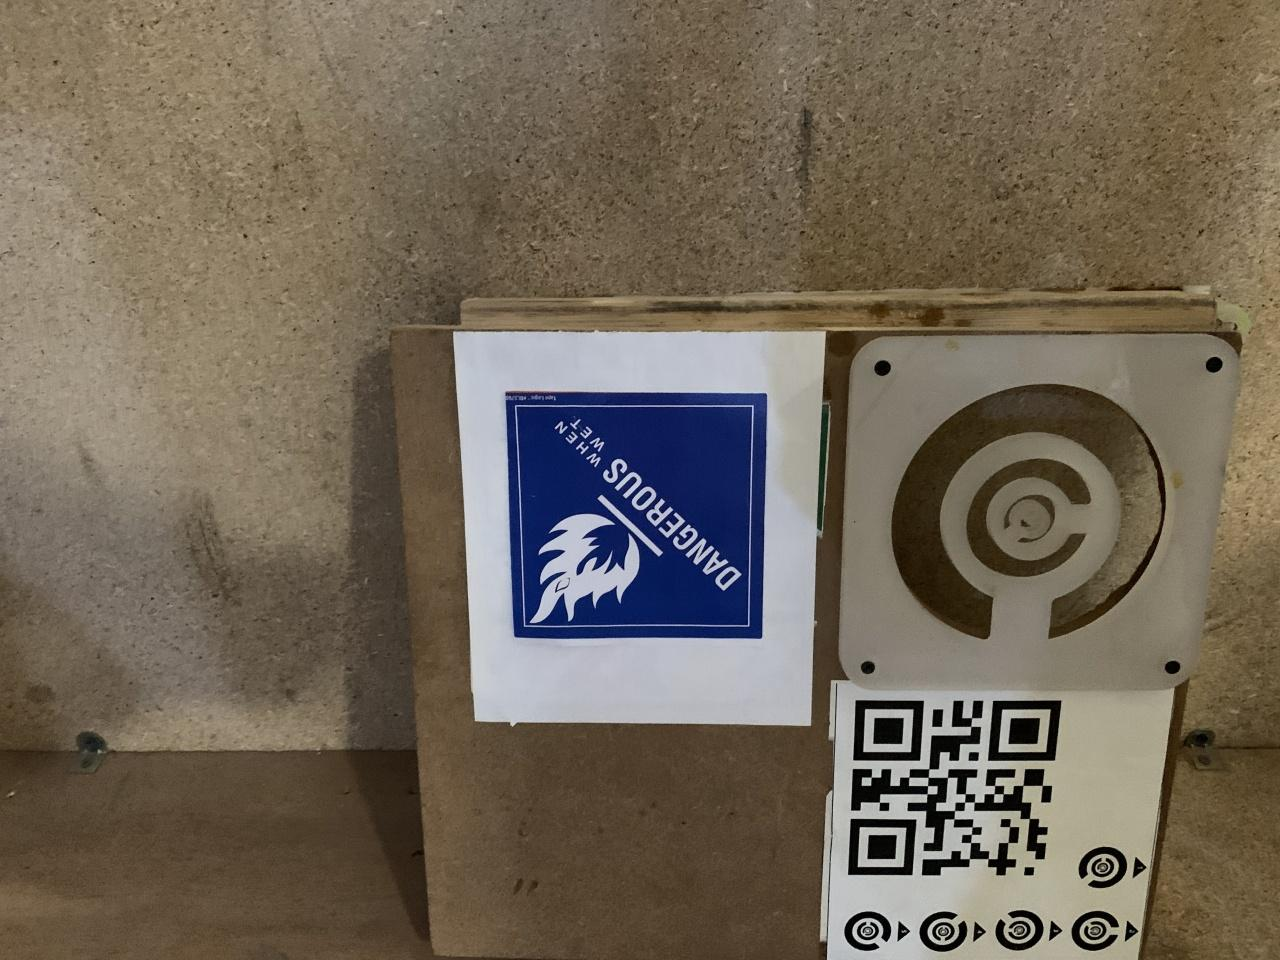dangerous-when-wet: (503, 388, 767, 640)
